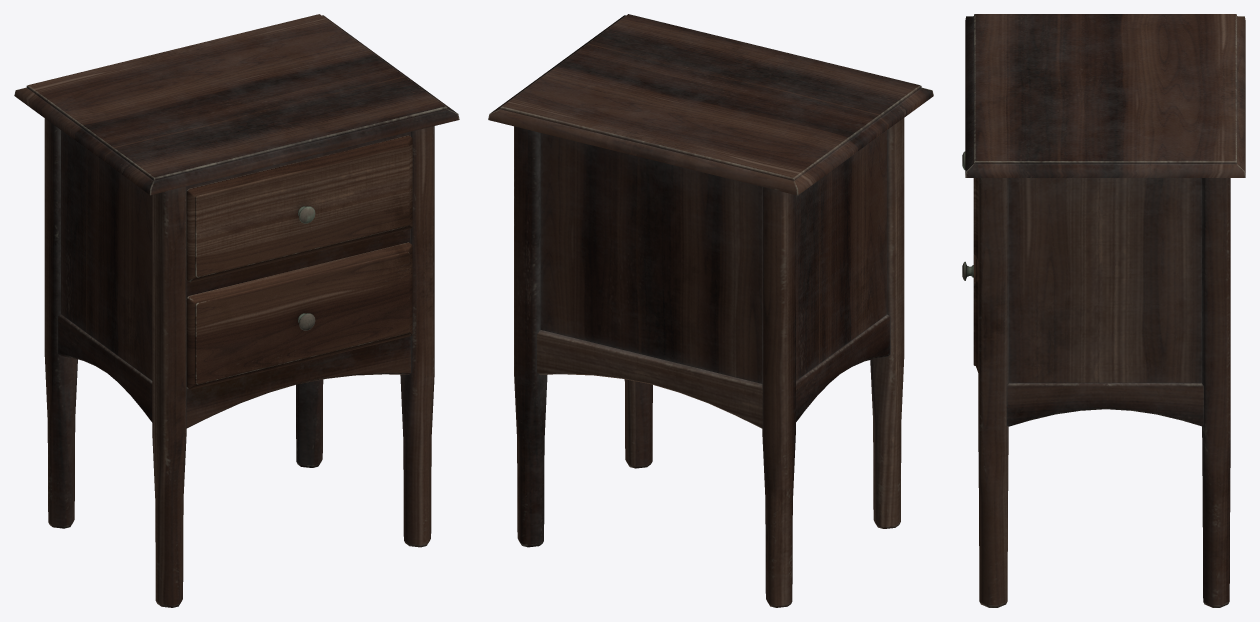
File: decorative_table.glb
The picture shows the model from 3 angles, left to right: view 1: azimuth 30°, elevation 25°; view 2: azimuth 150°, elevation 25°; view 3: azimuth 270°, elevation 25°; orthographic projection. The views are drawn at different scales.
Parts seen in each view (by area): view 1: DecTable, Drawer2, Drawer1; view 2: DecTable; view 3: DecTable, Drawer1, Drawer2.
Part boxes in pixels (x1,y1,x2,y2): DecTable: [14, 14, 459, 607]; Drawer2: [186, 135, 412, 282]; Drawer1: [186, 242, 412, 389]; DecTable: [488, 14, 933, 607]; DecTable: [965, 14, 1245, 607]; Drawer1: [962, 255, 978, 372]; Drawer2: [962, 151, 978, 261].
Bounding box in the file's own units: 9.65 × 13.07 × 7.42.
2 materials, 2 textured.
